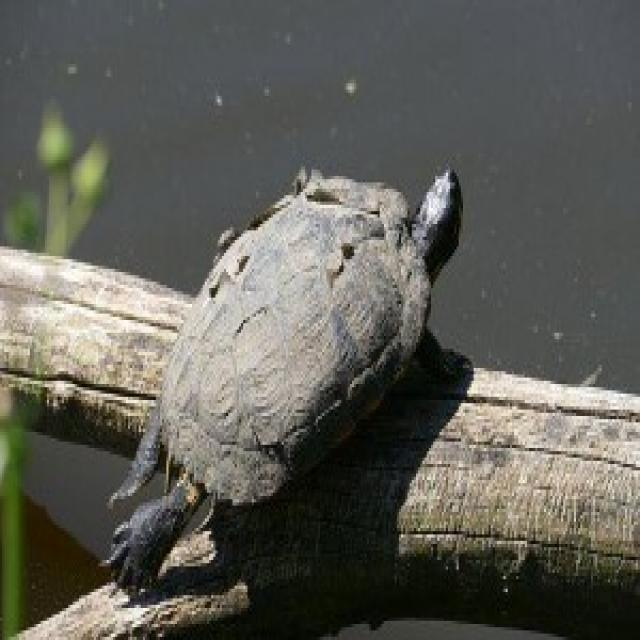Sea turtle: (83, 103, 486, 640)
